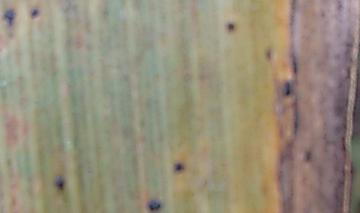tarspot: (291, 99, 300, 137), (1, 7, 17, 27), (146, 197, 162, 211), (289, 53, 299, 75), (53, 175, 66, 191), (60, 1, 74, 14), (28, 7, 42, 19), (282, 80, 292, 96), (302, 148, 313, 162), (264, 47, 274, 61), (344, 64, 352, 80), (173, 161, 183, 171), (340, 96, 349, 107), (101, 7, 110, 18), (343, 40, 353, 49), (335, 2, 345, 11), (339, 142, 347, 153), (9, 195, 17, 206), (226, 22, 235, 31), (83, 42, 92, 51), (342, 122, 348, 134), (338, 168, 347, 176), (339, 135, 347, 142), (341, 114, 348, 122), (319, 10, 326, 18), (5, 158, 12, 166)
